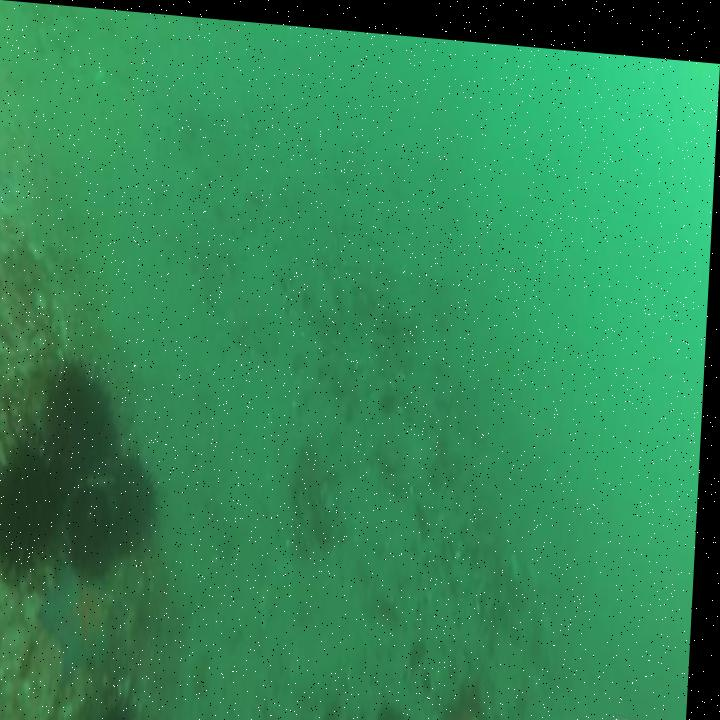echinus: (0, 434, 80, 581), (40, 351, 123, 465), (99, 444, 167, 558), (67, 468, 130, 577), (97, 686, 150, 720)
starfish: (40, 556, 130, 692)
